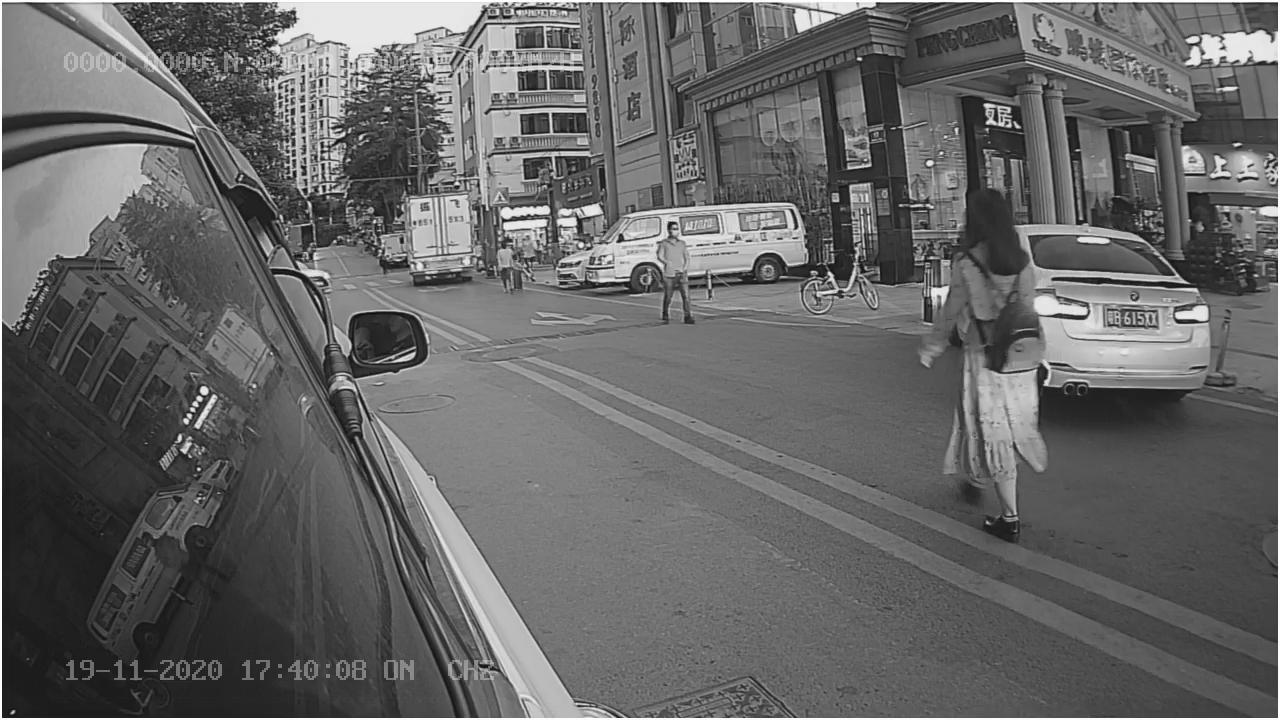person: (918, 186, 1052, 546)
